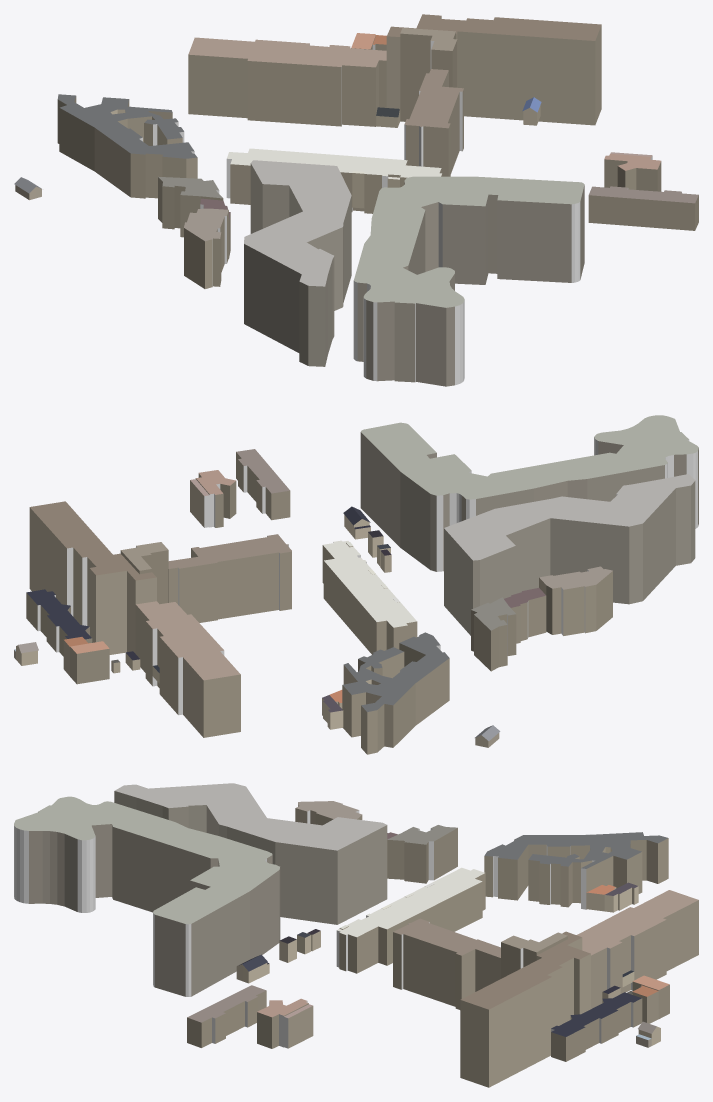
3 views of the same model, one above another, from view 1: azimuth 30°, elevation 25°; view 2: azimuth 150°, elevation 25°; view 3: azimuth 270°, elevation 25° (orthographic). The views are drawn at different scales.
Visible parts, largest first — view 1: tuile; view 2: tuile; view 3: tuile.
Boxes of the visible parts, <box> form: tuile: <box>14,14,698,386</box>; tuile: <box>14,415,698,754</box>; tuile: <box>14,783,698,1087</box>.
Bounding box in the file's own units: 253 × 40.27 × 305.
